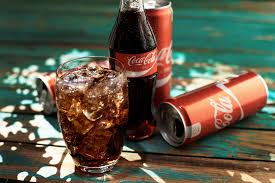coke: (162, 73, 270, 144), (117, 4, 166, 137), (152, 1, 176, 99)
